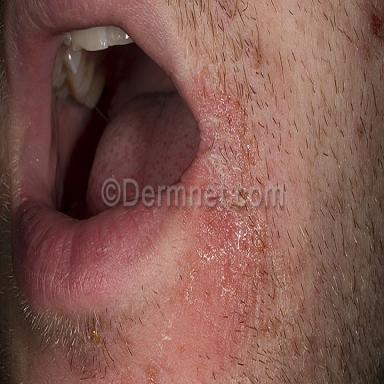Impetigo: (179, 206, 288, 349), (189, 66, 267, 184)
